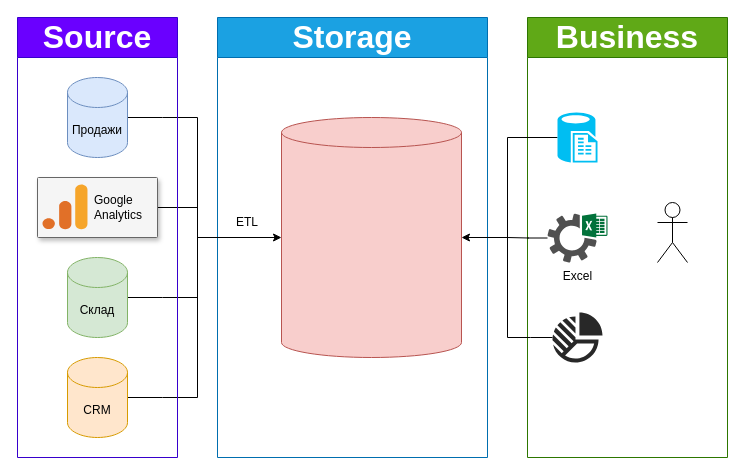
Image size: 745x475. Some labels were removed from this diagram. The shapes that lost their labels are listed below. From the top down, each one's centre as x and y in pixels, then its label:
At (x=577, y=137): "SQL".
At (x=371, y=237): "Хранилище данных".
At (x=672, y=232): "Actor".
At (x=577, y=337): "Business Intelligence".
